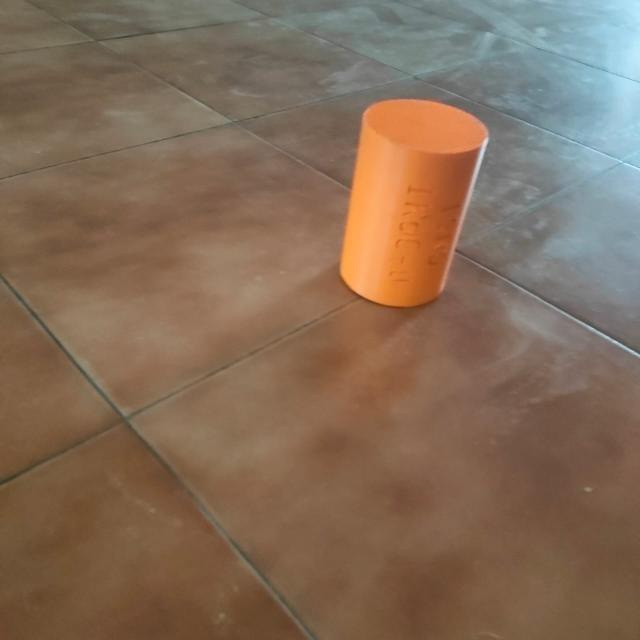Cylinder: (338, 96, 490, 308)
